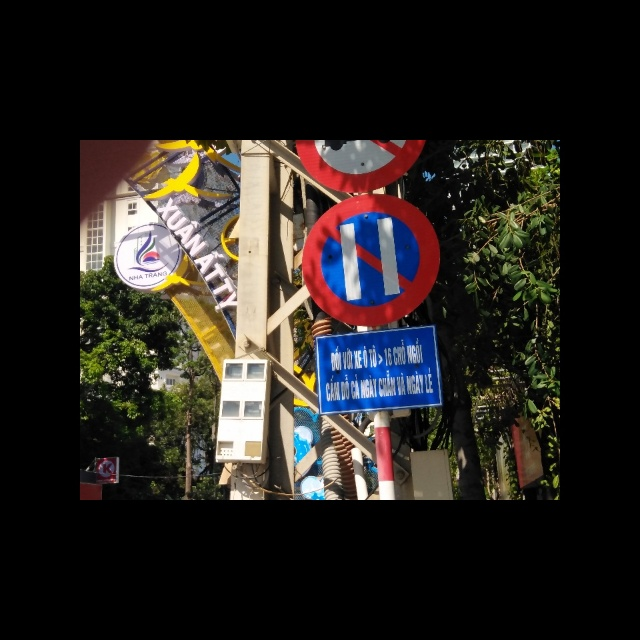Cấm đỗ xe ngày chẵn: (294, 195, 440, 325)
